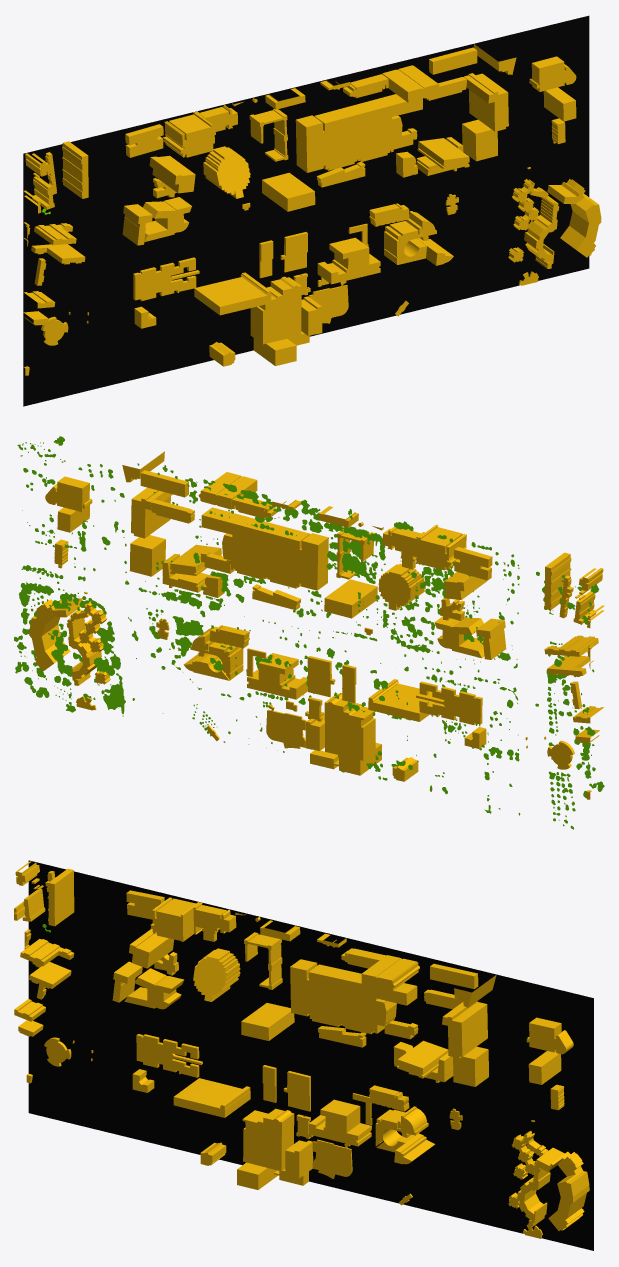
File: existing_buildings_07.glb
3 renders of one model, top to bottom at view 1: azimuth 30°, elevation 25°; view 2: azimuth 150°, elevation 25°; view 3: azimuth 330°, elevation 25°, orthographic.
Visible parts, largest first — view 1: Layer 04, existing_building, existing_building - Copy; view 2: existing_building, treesurface, existing_building - Copy; view 3: Layer 04, existing_building, existing_building - Copy.
Part boxes in pixels (bbox=[...]): Layer 04: bbox=[23, 15, 589, 406]; existing_building: bbox=[23, 44, 601, 375]; existing_building - Copy: bbox=[31, 74, 585, 345]; existing_building: bbox=[29, 451, 604, 799]; treesurface: bbox=[14, 436, 604, 829]; existing_building - Copy: bbox=[35, 495, 586, 769]; Layer 04: bbox=[28, 860, 593, 1250]; existing_building: bbox=[14, 861, 589, 1230]; existing_building - Copy: bbox=[32, 871, 583, 1238].
Size of the model in its own units: 1035 by 458 by 78.19.
